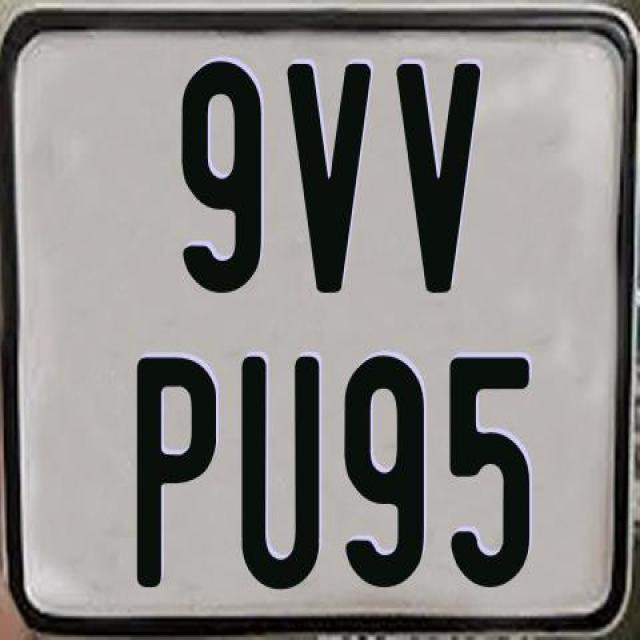5: (450, 357, 534, 591)
9: (344, 352, 432, 592), (180, 59, 266, 298)
P: (133, 356, 214, 591)
U: (240, 352, 322, 589)
V: (287, 61, 379, 295), (396, 63, 486, 300)
